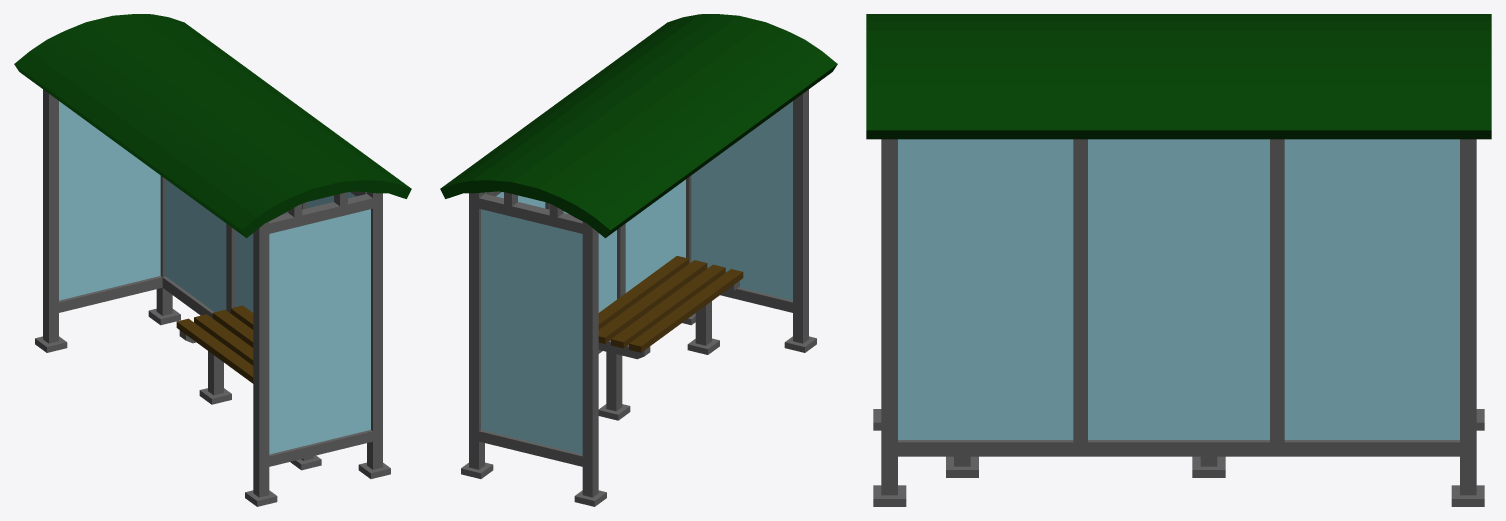
File: BussStop.fbx
3 views of the same model, side by side, from view 1: azimuth 30°, elevation 25°; view 2: azimuth 150°, elevation 25°; view 3: azimuth 270°, elevation 25° (orthographic). The views are drawn at different scales.
Visible parts, largest first — view 1: Cube.010; view 2: Cube.010; view 3: Cube.010.
Part boxes in pixels (x1,y1,x2,y2): Cube.010: (14, 14, 411, 506); Cube.010: (440, 14, 837, 506); Cube.010: (866, 14, 1491, 506).
Size of the model in its own units: 170 by 292 by 392.
